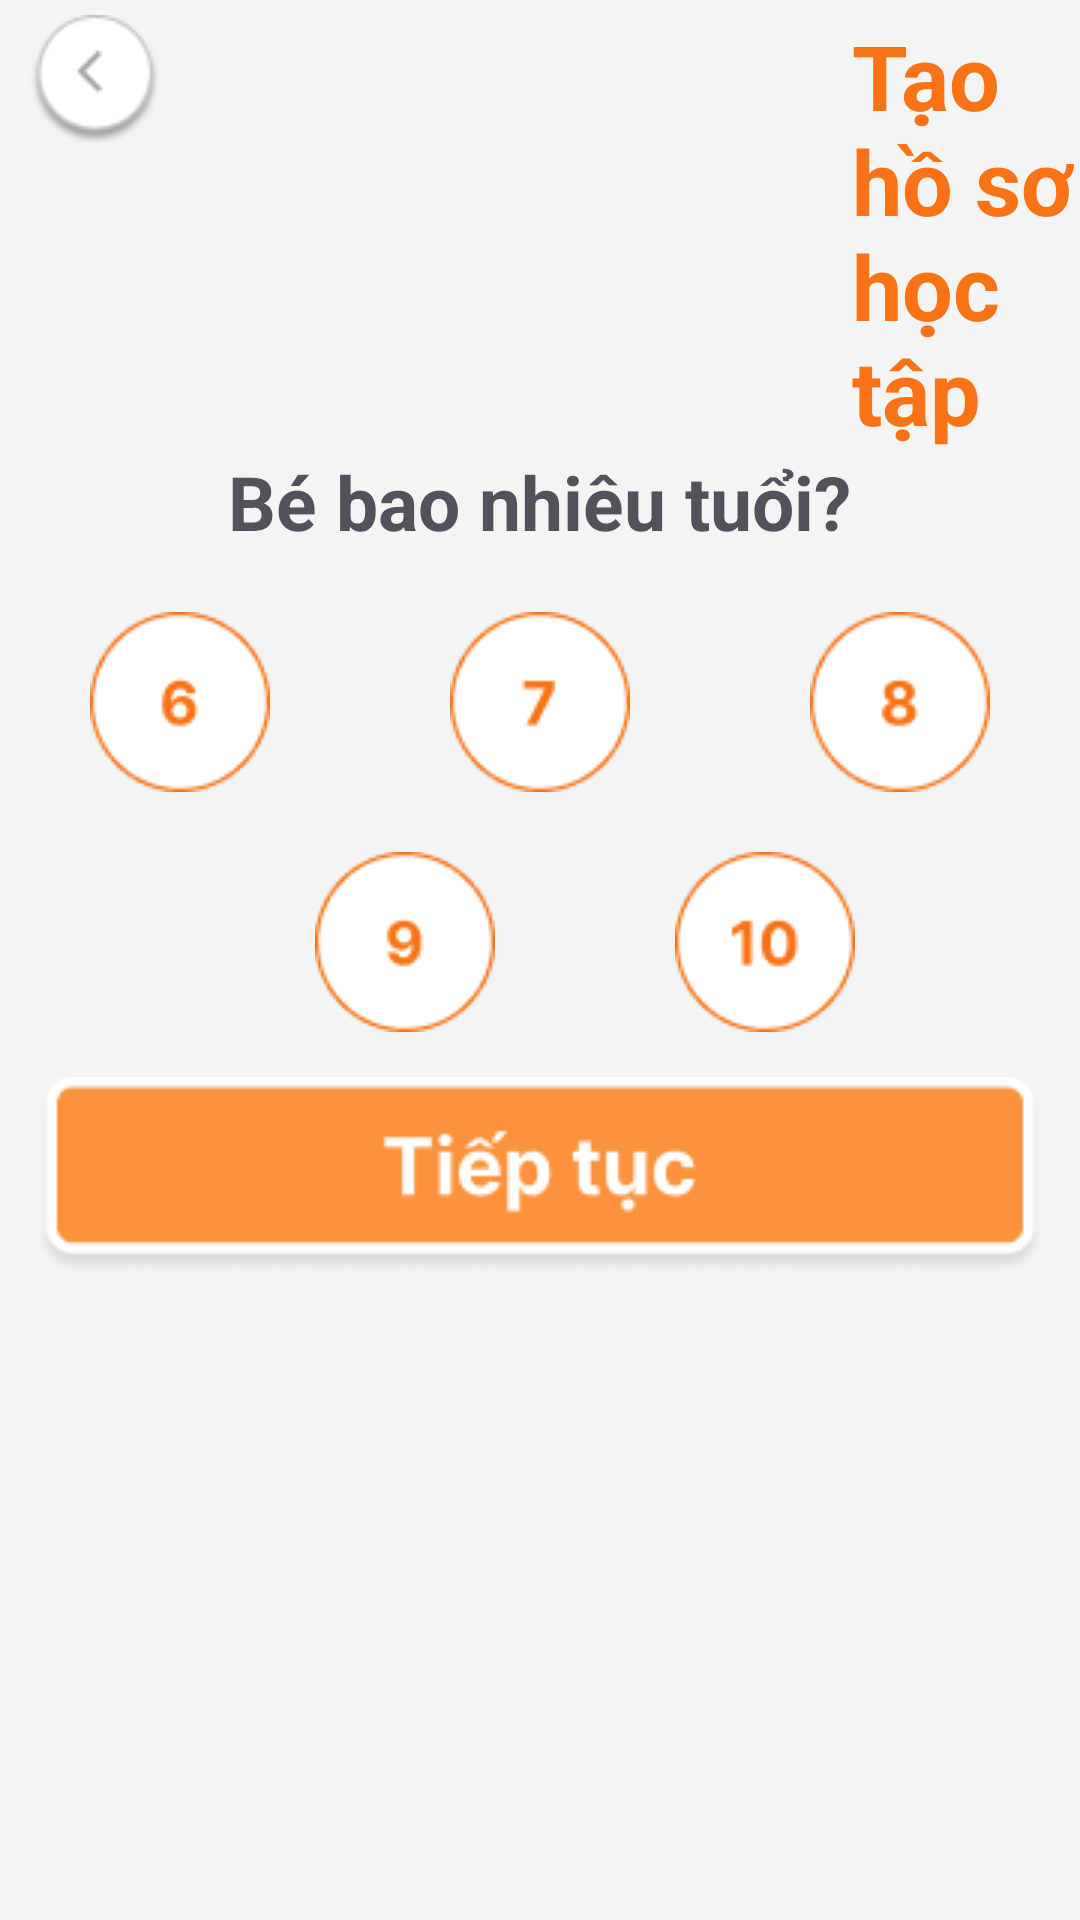

Icons on this 1080x1920 Android screen, each with the point to tap as [x,y]:
exit: [95,78]
